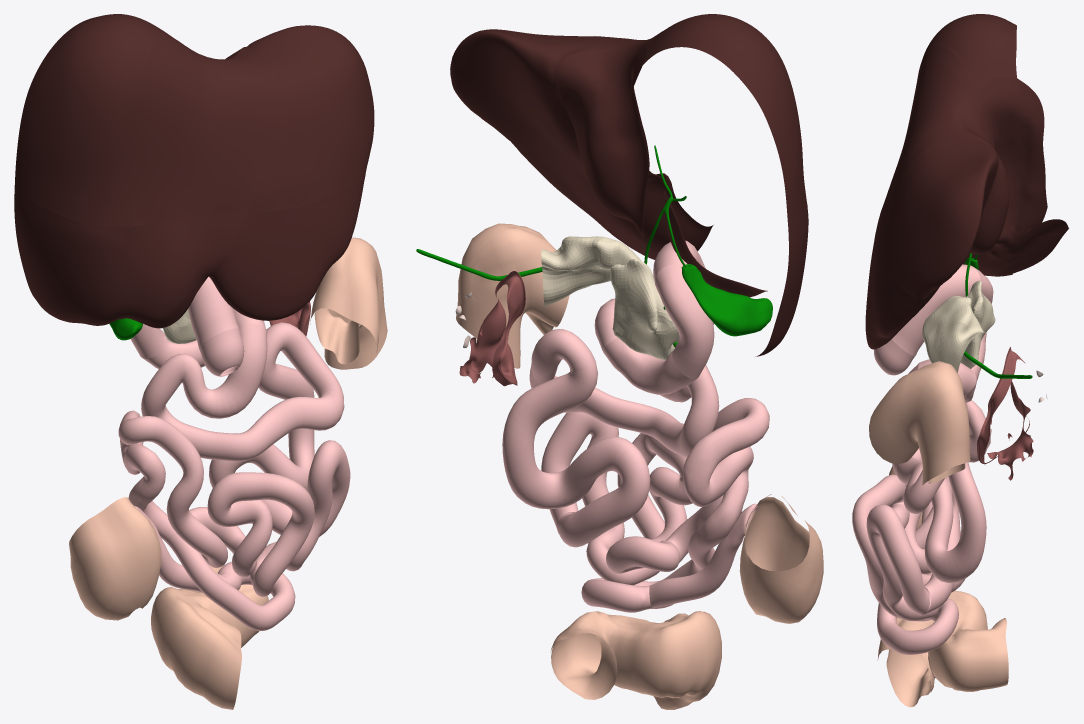
Rendered from female-a-organ-8.glb.
3 views of the same model, side by side, from view 1: azimuth 30°, elevation 25°; view 2: azimuth 150°, elevation 25°; view 3: azimuth 270°, elevation 25° (orthographic). The views are drawn at different scales.
Visible parts, largest first — view 1: VH_F_ileum, VH_F_right_anterosuperior_segment, VH_F_left_superomedial_segment1, VH_F_left_superomedial_segment, VH_F_jejenum, VH_F_left_anterolateral_segment, VH_F_right_anteroinferior_segment, VH_F_left_inferomedial_segment, VH_F_sigmoid_colon, VH_F_caecum, VH_F_splenic_flexure_of_colon, VH_F_duodenum_superior (+4 smaller); view 2: VH_F_ileum, VH_F_jejenum, VH_F_sigmoid_colon, VH_F_caudate_lobe, VH_F_left_superomedial_segment, VH_F_right_anterosuperior_segment, VH_F_caecum, VH_F_splenic_flexure_of_colon, VH_F_body_of_pancreas, VH_F_left_anterolateral_segment, VH_F_duodenum_descending, VH_F_hilum_of_kidney_L (+12 smaller); view 3: VH_F_left_superomedial_segment, VH_F_ileum, VH_F_caudate_lobe, VH_F_splenic_flexure_of_colon, VH_F_sigmoid_colon, VH_F_jejenum, VH_F_left_superomedial_segment1, VH_F_right_anterosuperior_segment, VH_F_left_anterolateral_segment, VH_F_body_of_pancreas, VH_F_hilum_of_kidney_L, VH_F_duodenum_superior (+6 smaller).
Part boxes in pixels (x1,y1,x2,y2): VH_F_ileum: (118,410,350,631); VH_F_right_anterosuperior_segment: (14,14,175,226); VH_F_left_superomedial_segment1: (132,38,270,226); VH_F_left_superomedial_segment: (237,25,374,212); VH_F_jejenum: (141,322,344,534); VH_F_left_anterolateral_segment: (209,176,365,320); VH_F_right_anteroinferior_segment: (14,189,132,325); VH_F_left_inferomedial_segment: (119,212,246,327); VH_F_sigmoid_colon: (151,564,268,709); VH_F_caecum: (69,497,161,620); VH_F_splenic_flexure_of_colon: (310,237,387,369); VH_F_duodenum_superior: (188,276,238,346); VH_F_ileum: (541,398,769,612); VH_F_jejenum: (502,329,719,547); VH_F_sigmoid_colon: (550,611,721,709); VH_F_caudate_lobe: (554,43,649,240); VH_F_left_superomedial_segment: (450,29,609,174); VH_F_right_anterosuperior_segment: (643,14,807,229); VH_F_caecum: (739,494,823,623); VH_F_splenic_flexure_of_colon: (456,223,569,368); VH_F_body_of_pancreas: (541,236,641,306); VH_F_left_anterolateral_segment: (516,144,713,259); VH_F_duodenum_descending: (655,264,714,379); VH_F_hilum_of_kidney_L: (459,271,525,386); VH_F_left_superomedial_segment: (874,131,998,299); VH_F_ileum: (852,400,991,654); VH_F_caudate_lobe: (959,77,1047,254); VH_F_splenic_flexure_of_colon: (869,361,970,485); VH_F_sigmoid_colon: (877,590,1008,707); VH_F_jejenum: (895,362,986,614); VH_F_left_superomedial_segment1: (884,46,972,202); VH_F_right_anterosuperior_segment: (922,14,1016,88); VH_F_left_anterolateral_segment: (865,237,925,349); VH_F_body_of_pancreas: (922,296,986,372); VH_F_hilum_of_kidney_L: (977,347,1033,480); VH_F_duodenum_superior: (892,264,980,355).
Size of the model in its own units: 0.2113 by 0.4082 by 0.1233.
